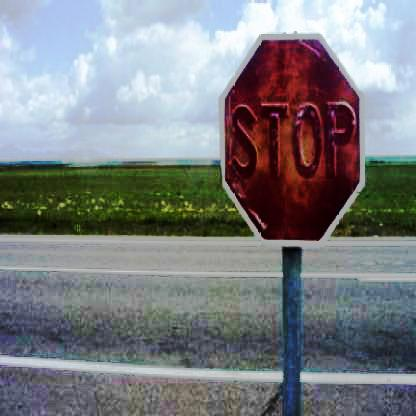Stop Sign: (215, 30, 370, 250)
